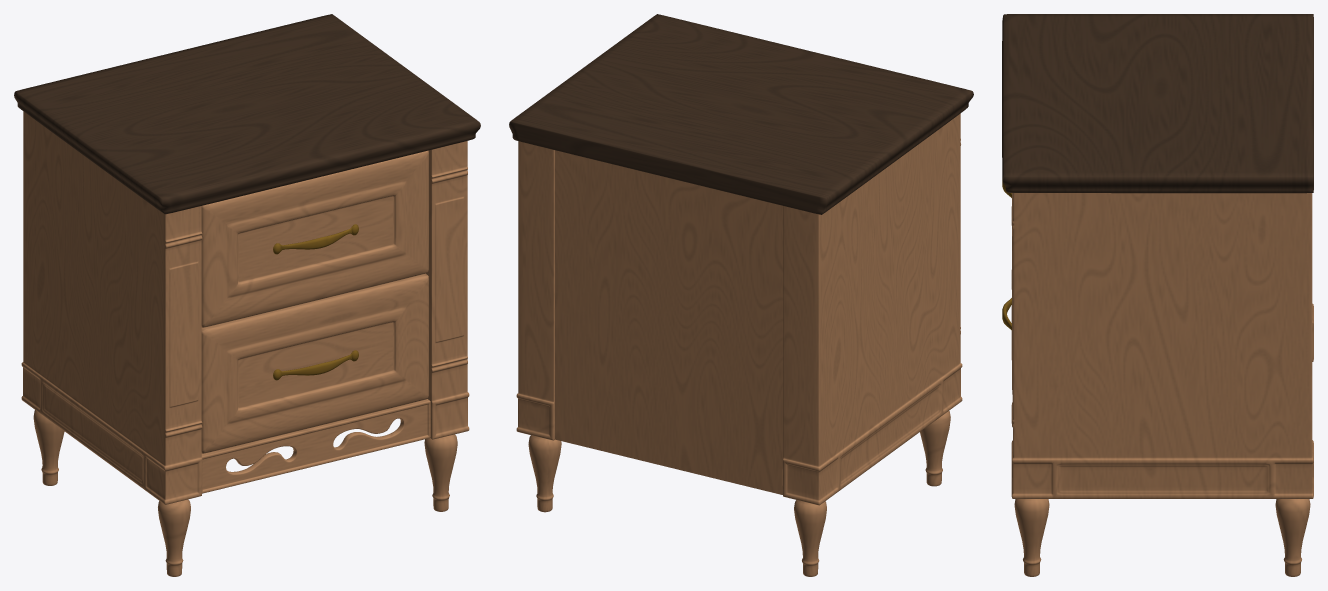
Rendered from Bedside Drawer.fbx.
3 views of the same model, side by side, from view 1: azimuth 30°, elevation 25°; view 2: azimuth 150°, elevation 25°; view 3: azimuth 270°, elevation 25° (orthographic). The views are drawn at different scales.
Parts seen in each view (by area): view 1: Walls, Cap, Drawer_Down, Drawer_Up, Panel_Down, Leg_Front_Left, Leg_Front_Right, Leg_Back_Left, Handle_Up, Handle_Down; view 2: Wall_Back, Walls, Cap, Leg_Back_Left, Leg_Back_Right, Leg_Front_Left; view 3: Walls, Cap, Leg_Front_Right, Leg_Back_Right.
Boxes of the visible parts, left/top/right/bottom form: Walls: left=21, top=111, right=469, bottom=504; Cap: left=14, top=14, right=480, bottom=214; Drawer_Down: left=201, top=273, right=428, bottom=453; Drawer_Up: left=201, top=150, right=428, bottom=327; Panel_Down: left=201, top=399, right=430, bottom=493; Leg_Front_Left: left=158, top=499, right=190, bottom=576; Leg_Front_Right: left=424, top=434, right=457, bottom=511; Leg_Back_Left: left=33, top=410, right=64, bottom=485; Handle_Up: left=273, top=224, right=358, bottom=254; Handle_Down: left=273, top=350, right=358, bottom=380; Wall_Back: left=555, top=150, right=783, bottom=494; Walls: left=516, top=113, right=962, bottom=505; Cap: left=509, top=14, right=973, bottom=214; Leg_Back_Left: left=794, top=500, right=826, bottom=576; Leg_Back_Right: left=528, top=435, right=561, bottom=512; Leg_Front_Left: left=920, top=411, right=950, bottom=486; Walls: left=1011, top=193, right=1313, bottom=498; Cap: left=1002, top=14, right=1313, bottom=193; Leg_Front_Right: left=1014, top=499, right=1049, bottom=576; Leg_Back_Right: left=1275, top=499, right=1310, bottom=576.
Size of the model in its own units: 52.75 by 61.7 by 42.42.
